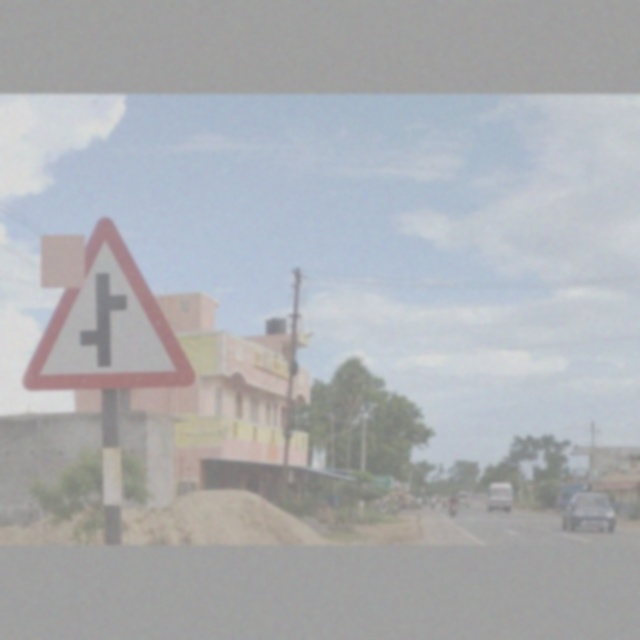Staggered_Intersection: (26, 210, 207, 393)
